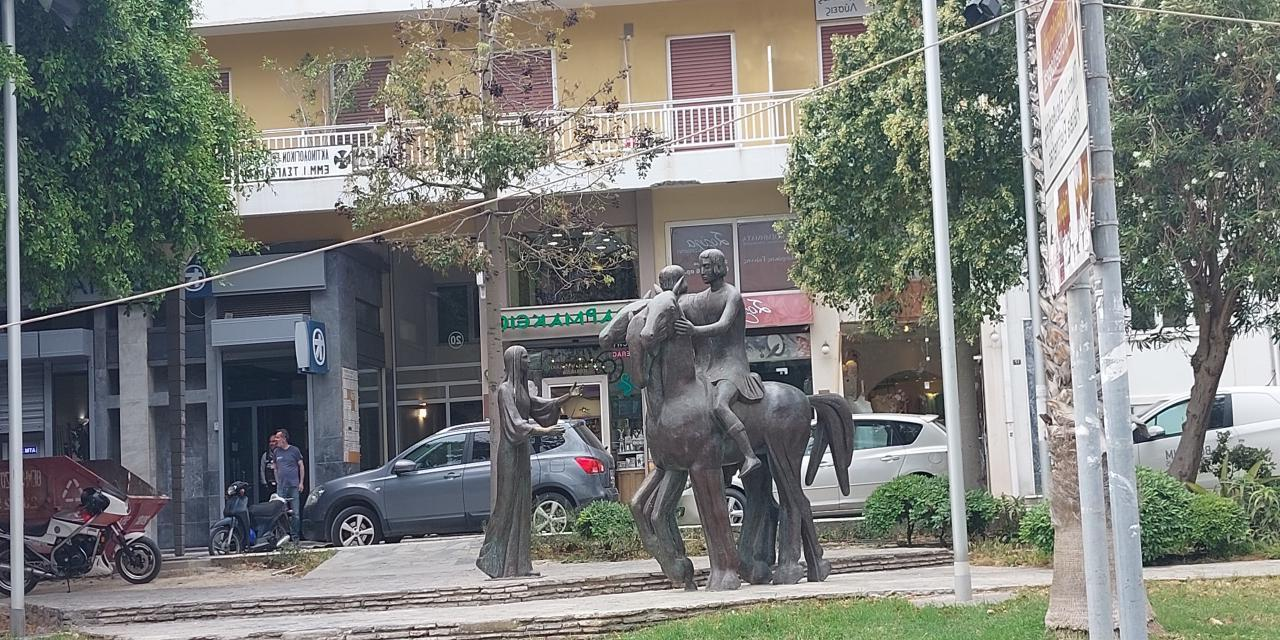Aretousa: (475, 249, 857, 594)
